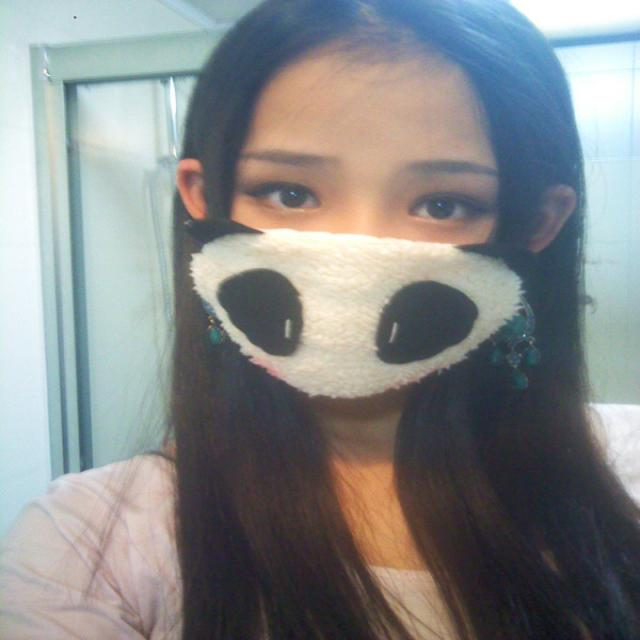mask: (215, 48, 508, 402)
